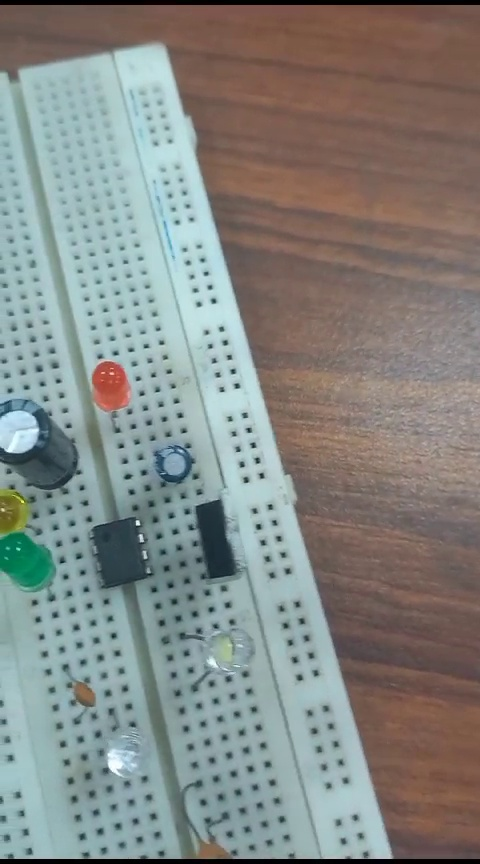IC: (90, 523, 172, 591)
LED: (186, 627, 268, 701), (1, 540, 79, 595), (106, 732, 164, 789), (84, 357, 132, 409), (3, 491, 36, 536)
capacitor: (2, 392, 90, 493), (132, 437, 206, 477)
ceramic capacitor: (68, 671, 112, 733)
voltage regulator: (186, 487, 260, 577)
